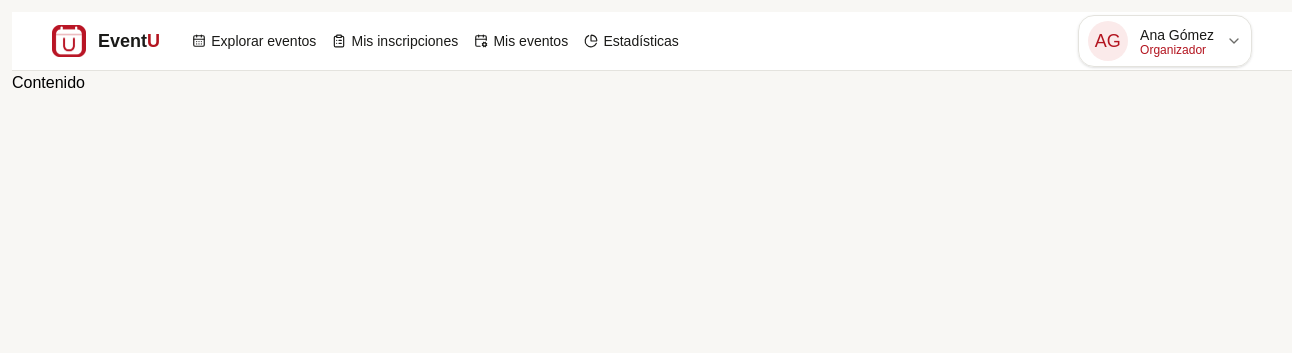
it: LayoutAplicacion › mantiene disponible cerrar sesión en el menú de perfil
Click the button with aria-label "Menú de perfil de Ana Gómez" at (1165, 41), box x1=1078 y1=15 x2=1252 y2=67
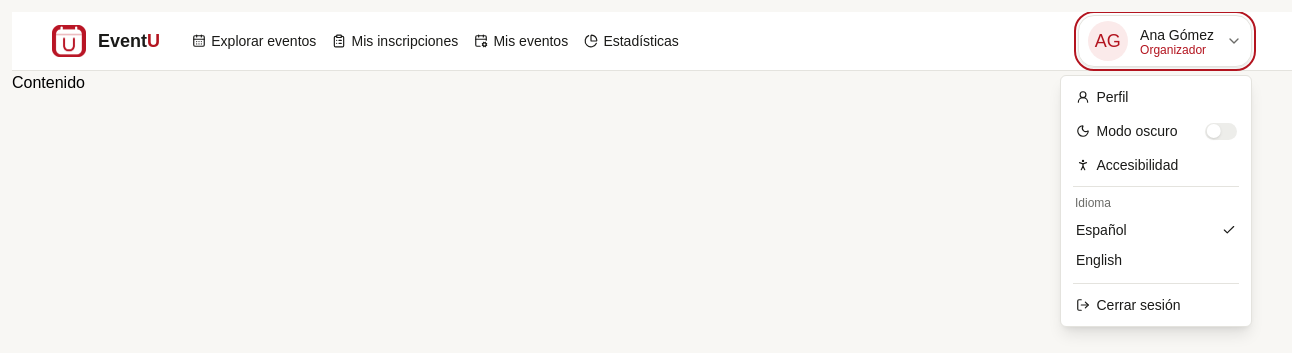
Click the button "Cerrar sesión" at (1156, 305), box x1=1065 y1=288 x2=1247 y2=322
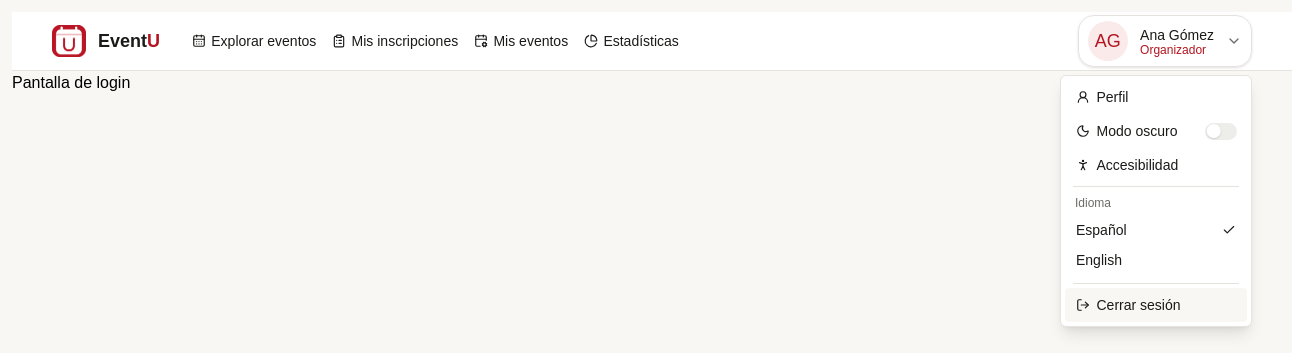
Expected: the text "Pantalla de login" is shown, x1=12 y1=74 x2=130 y2=91
